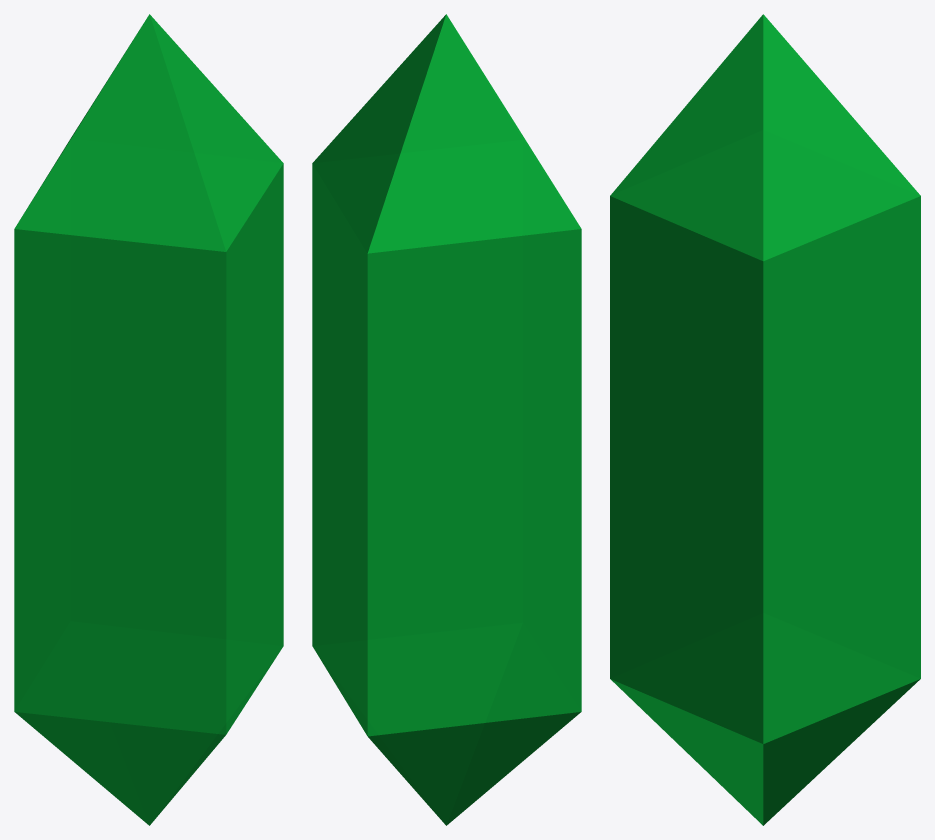
Rendered from crystal_fbx_3.fbx.
3 renders of one model, left to right at view 1: azimuth 30°, elevation 25°; view 2: azimuth 150°, elevation 25°; view 3: azimuth 270°, elevation 25°, orthographic.
Parts seen in each view (by area): view 1: pCube2; view 2: pCube2; view 3: pCube2.
Part boxes in pixels (left/top/right/bottom): pCube2: left=14, top=14, right=283, bottom=825; pCube2: left=312, top=14, right=581, bottom=825; pCube2: left=610, top=14, right=920, bottom=825.
Size of the model in its own units: 1.91 by 5.5 by 1.91.
